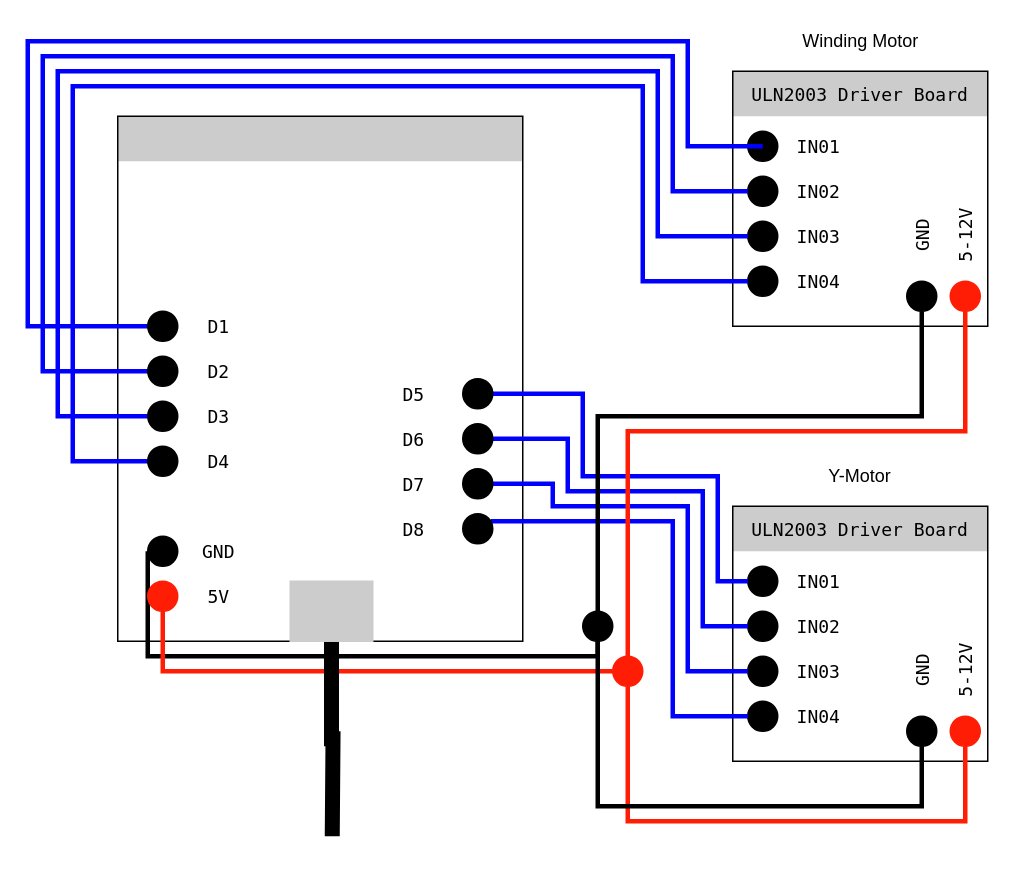
Some shapes in this 1014 by 870 pixel diagram are drawn without their labels. Each missing label, with the centre of its shape:
"USB" belongs at point (331, 610).
"Wemos D1 Mini Lite" belongs at point (319, 138).
